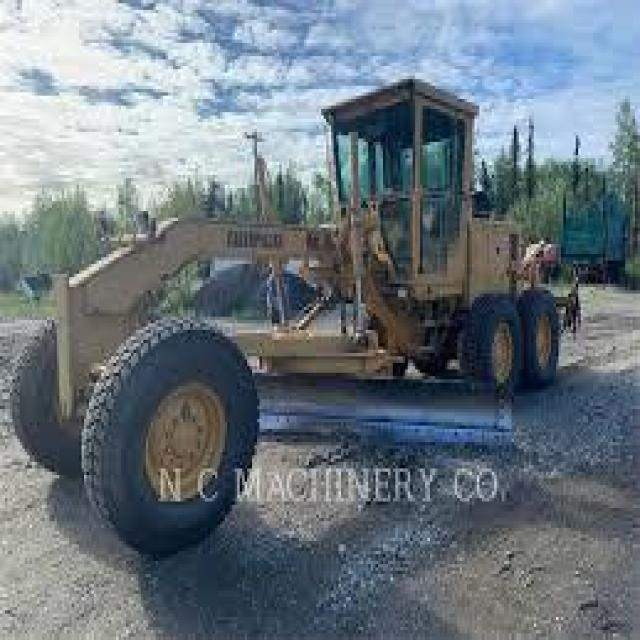Grader: (30, 76, 618, 577)
